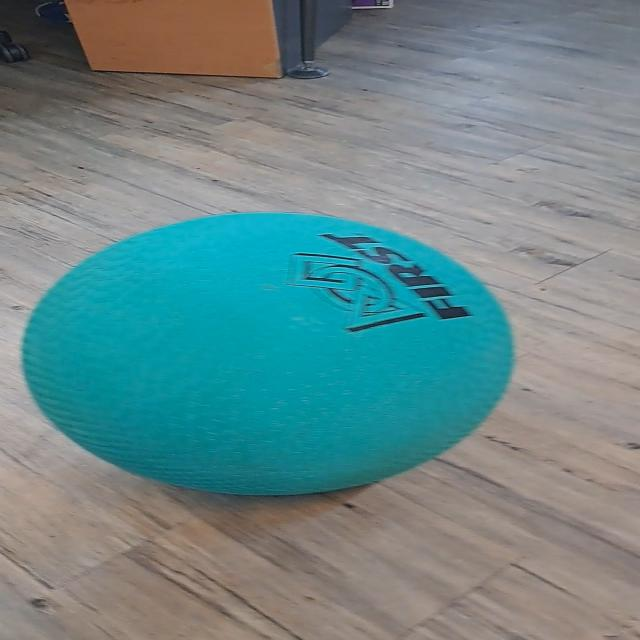ALGAE: (19, 210, 516, 497)
